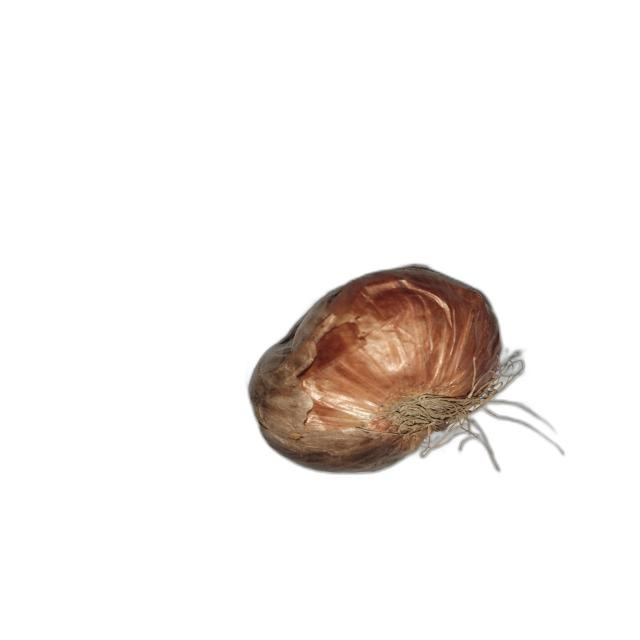onion: (243, 262, 526, 474)
